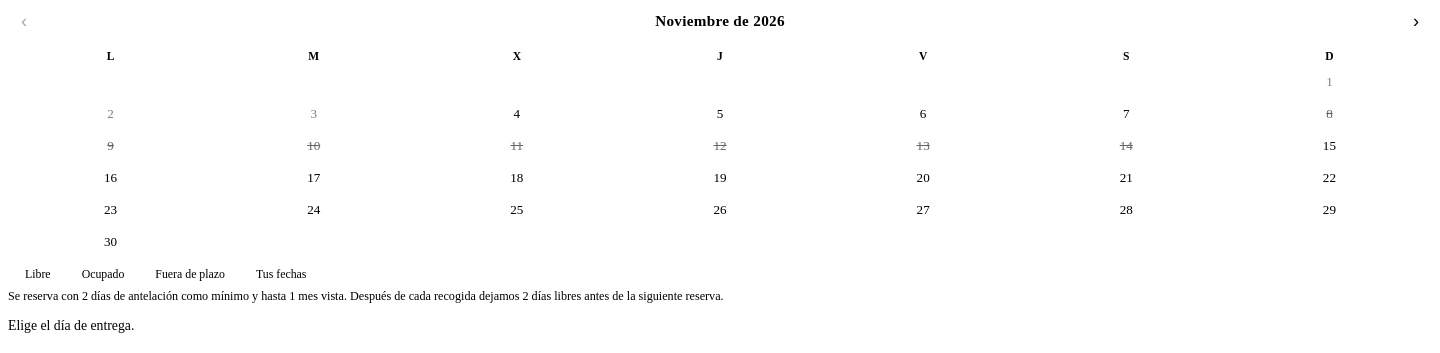
Test: CalendarioReserva — elegir las fechas › "Borrar fechas" quita la selección y deja el foco en las instrucciones; sin nada elegido, no aparece
Expected: the button "Borrar fechas" is not shown
Click the button named "miércoles, 4 de noviembre de 2026". click: click(517, 114)
box: [416, 99, 617, 129]
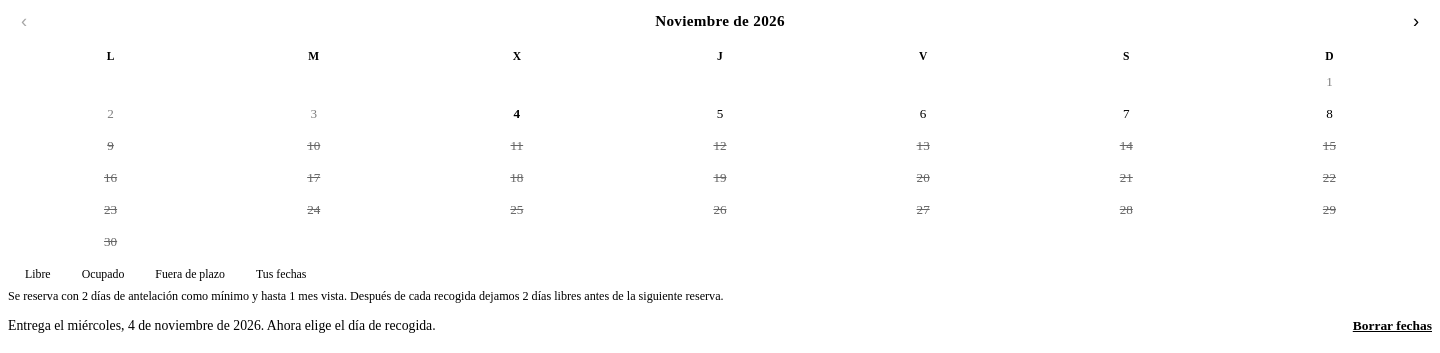
Click the button "Borrar fechas". click: click(1392, 326)
box: [1353, 318, 1432, 334]
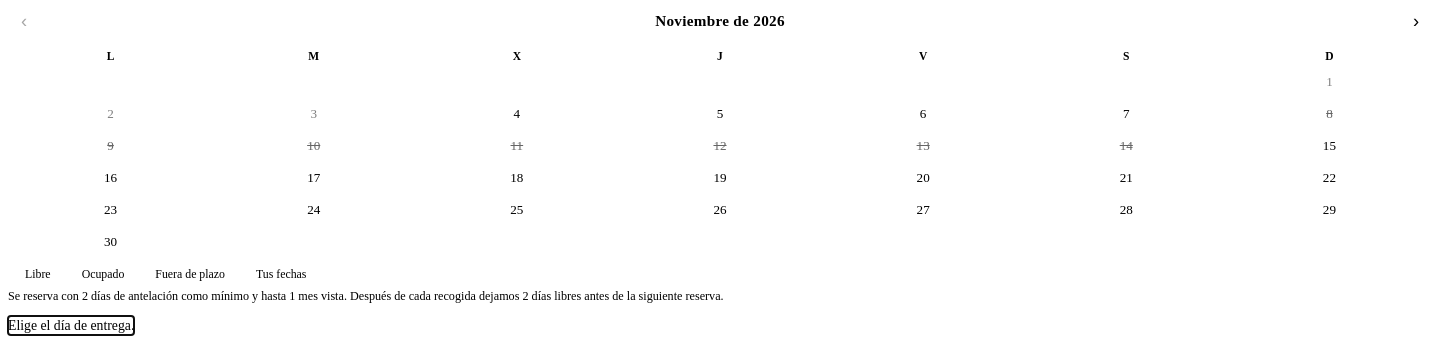
Expected: the button "Borrar fechas" is gone
Expected: the text with class "cal-reserva-instrucciones" reads "Elige el día de entrega.", [8, 318, 134, 333]
